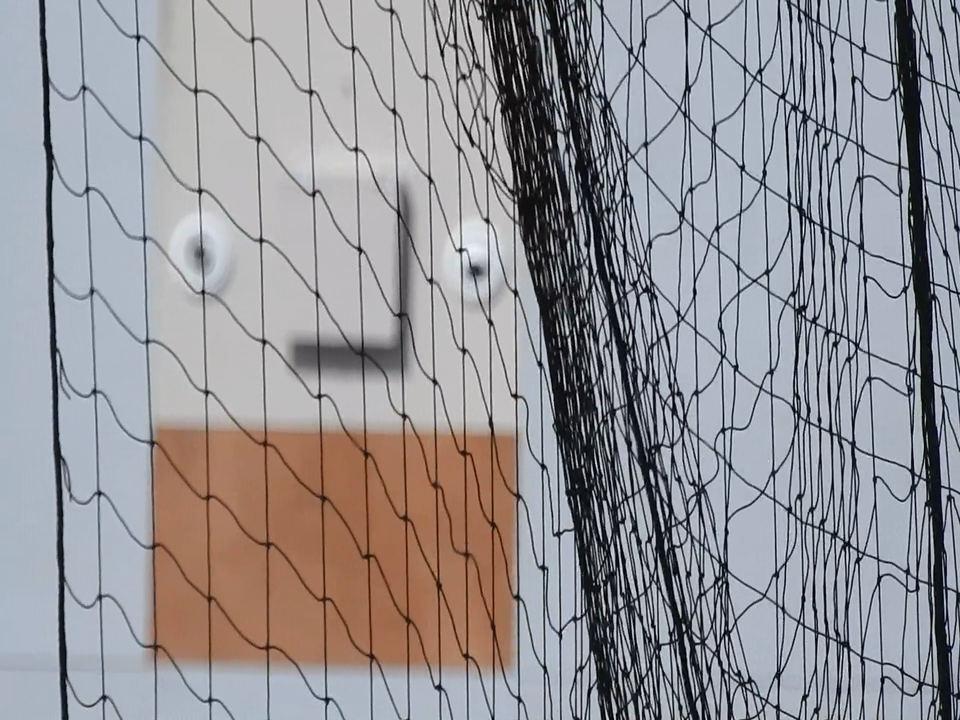facade: (165, 170, 502, 350)
